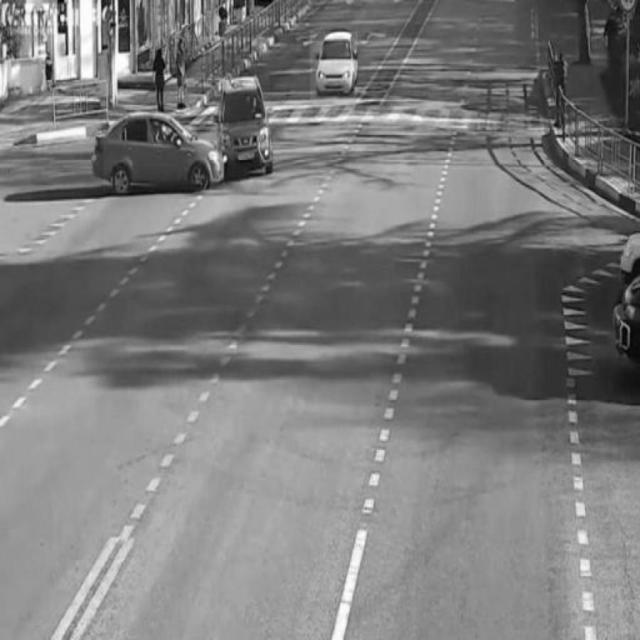accident: (104, 75, 270, 193), (310, 31, 357, 99)
